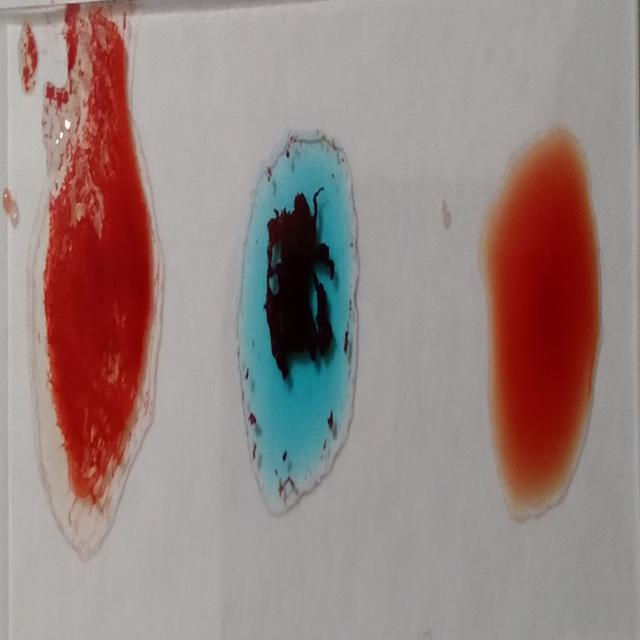A: (239, 121, 364, 496)
D: (38, 17, 162, 562)
